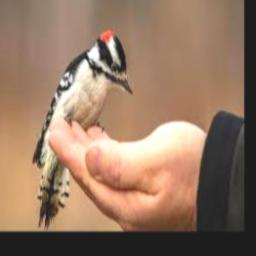Woodpecker: (32, 28, 133, 230)
